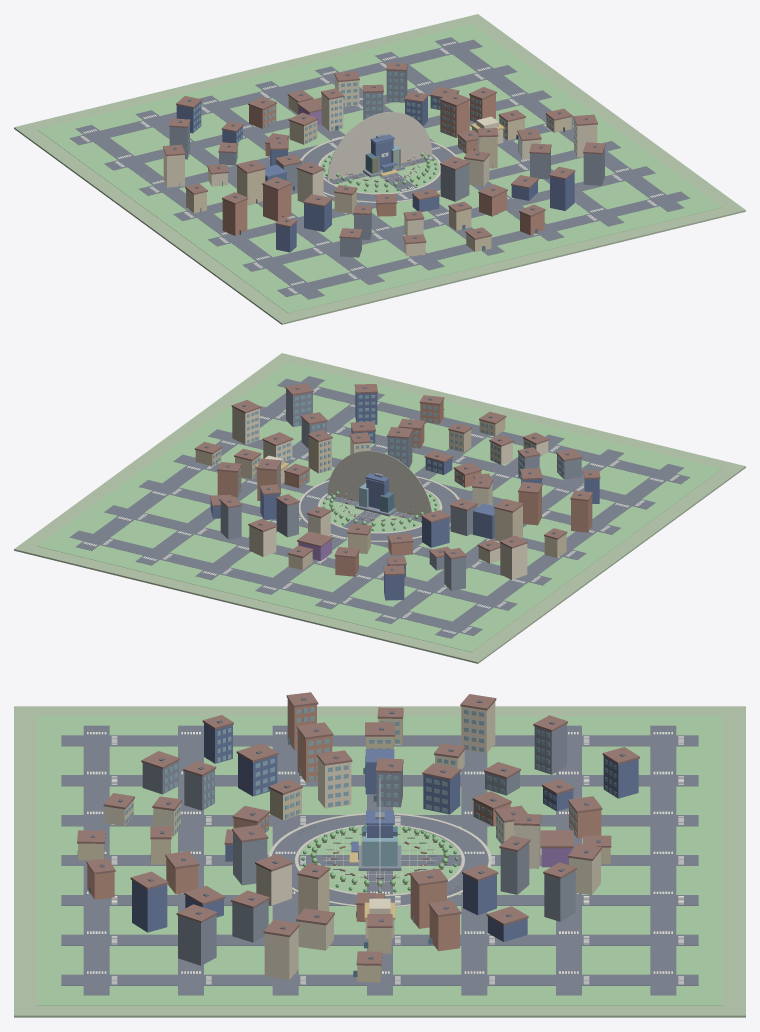
The model's file is nextown_full_town.glb.
3 views of the same model, one above another, from view 1: azimuth 30°, elevation 25°; view 2: azimuth 150°, elevation 25°; view 3: azimuth 270°, elevation 25° (orthographic). The views are drawn at different scales.
Visible parts, largest first — view 1: grass, road, ground, roof, slate, brick, cream, blue, sidewalk, sand, glass, line (+1 smaller); view 2: grass, road, ground, roof, slate, cream, blue, brick, sidewalk, sand, glass, line; view 3: grass, road, ground, roof, slate, blue, cream, brick, glass, sand, line, sidewalk (+2 smaller).
Part boxes in pixels (x1=…): grass: x1=38, y1=24, x2=722, y2=313; road: x1=69, y1=37, x2=690, y2=299; ground: x1=14, y1=14, x2=745, y2=324; roof: x1=163, y1=62, x2=605, y2=244; slate: x1=169, y1=68, x2=604, y2=257; brick: x1=222, y1=94, x2=544, y2=235; cream: x1=163, y1=76, x2=597, y2=256; blue: x1=176, y1=93, x2=574, y2=252; sidewalk: x1=300, y1=112, x2=457, y2=202; sand: x1=186, y1=96, x2=571, y2=251; glass: x1=187, y1=72, x2=576, y2=168; line: x1=80, y1=41, x2=663, y2=293; grass: x1=37, y1=363, x2=721, y2=652; road: x1=69, y1=376, x2=690, y2=638; ground: x1=14, y1=353, x2=745, y2=663; roof: x1=194, y1=383, x2=600, y2=575; slate: x1=220, y1=389, x2=581, y2=590; cream: x1=232, y1=407, x2=548, y2=579; blue: x1=210, y1=390, x2=599, y2=600; brick: x1=217, y1=400, x2=592, y2=576; sidewalk: x1=299, y1=451, x2=459, y2=541; sand: x1=195, y1=418, x2=566, y2=569; glass: x1=213, y1=394, x2=584, y2=507; line: x1=83, y1=387, x2=679, y2=633; grass: x1=37, y1=716, x2=722, y2=1005; road: x1=61, y1=725, x2=698, y2=995; ground: x1=14, y1=706, x2=745, y2=1017; roof: x1=77, y1=692, x2=639, y2=965; slate: x1=142, y1=724, x2=575, y2=965; blue: x1=132, y1=723, x2=638, y2=941; cream: x1=104, y1=701, x2=600, y2=979; brick: x1=87, y1=699, x2=601, y2=951; glass: x1=104, y1=707, x2=616, y2=866; sand: x1=78, y1=718, x2=610, y2=982; line: x1=87, y1=732, x2=683, y2=984; sidewalk: x1=268, y1=778, x2=491, y2=907.
Bounding box in the file's own units: 310 × 70 × 310.
